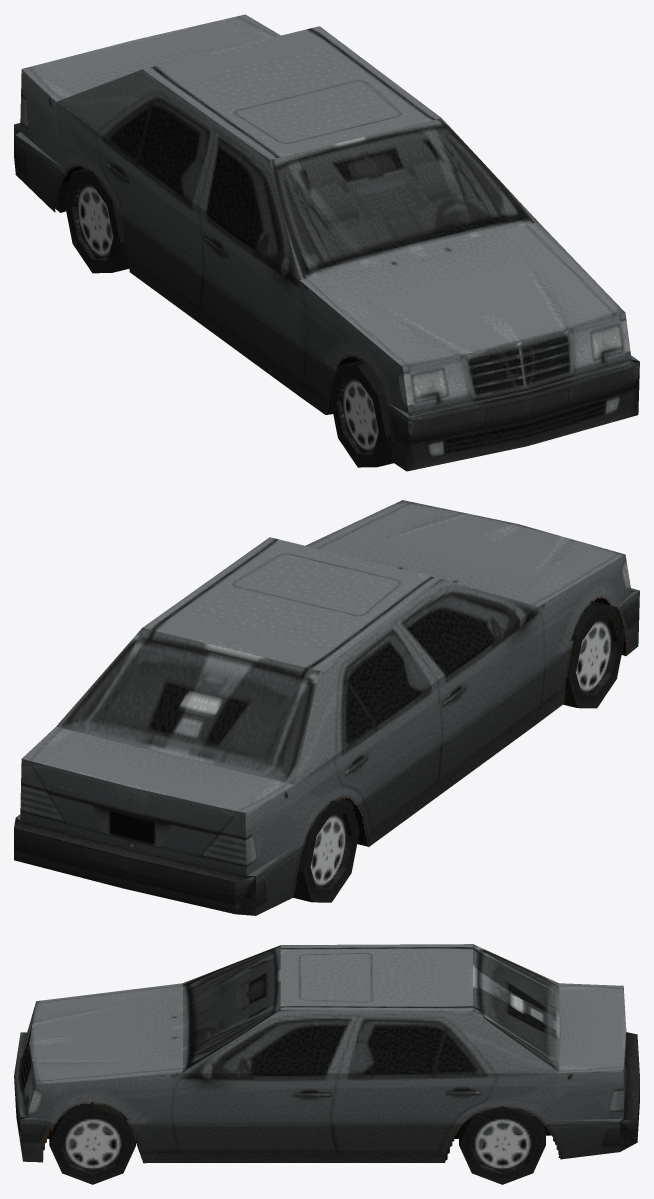
Rendered from car.fbx.
3 views of the same model, one above another, from view 1: azimuth 30°, elevation 25°; view 2: azimuth 150°, elevation 25°; view 3: azimuth 270°, elevation 25° (orthographic). The views are drawn at different scales.
Parts seen in each view (by area): view 1: Cube, Cylinder.002, Cylinder.003; view 2: Cube, Cylinder.002, Cylinder.003; view 3: Cube, Cylinder, Cylinder.001.
Boxes of the visible parts, box(x1,y1,x2,y2) form: Cube: box(14, 14, 639, 471); Cylinder.002: box(329, 360, 393, 467); Cylinder.003: box(64, 169, 128, 273); Cube: box(14, 500, 639, 915); Cylinder.002: box(563, 601, 624, 708); Cylinder.003: box(293, 799, 359, 902); Cube: box(14, 944, 639, 1163); Cylinder: box(49, 1102, 135, 1184); Cylinder.001: box(459, 1106, 545, 1184).
Bounding box in the file's own units: 206 × 172 × 602.
